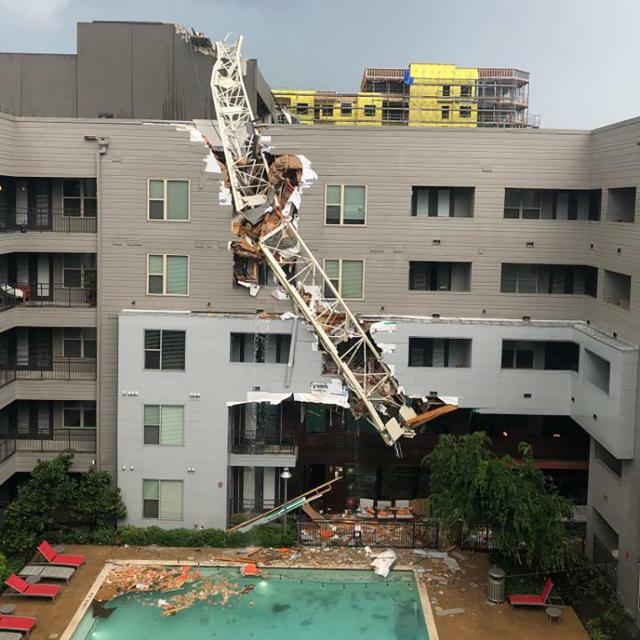Severely_Damaged: (171, 26, 491, 577)
